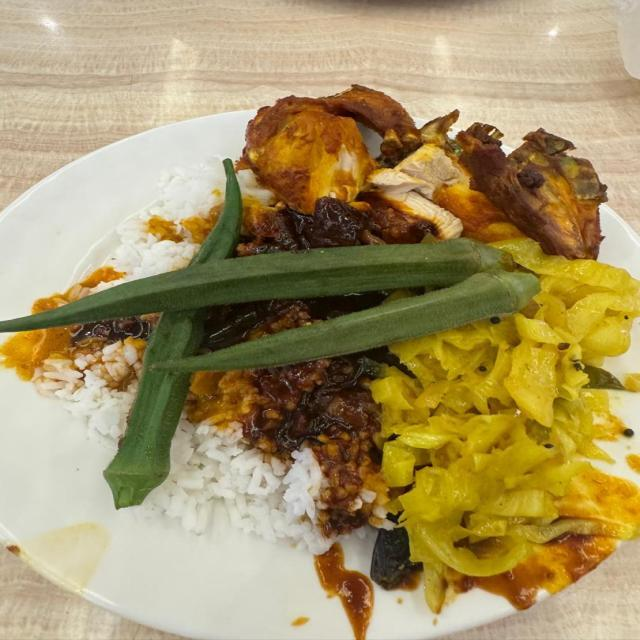Chicken: (229, 85, 611, 257)
Plate: (0, 370, 350, 639)
Rice: (27, 160, 407, 552)
Vegetables: (0, 163, 639, 608)
